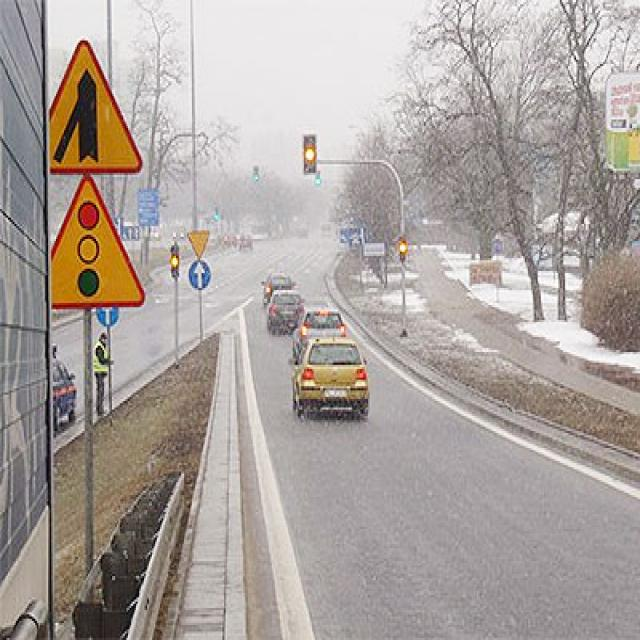Ustap pierwszenstwa: (187, 231, 211, 258)
